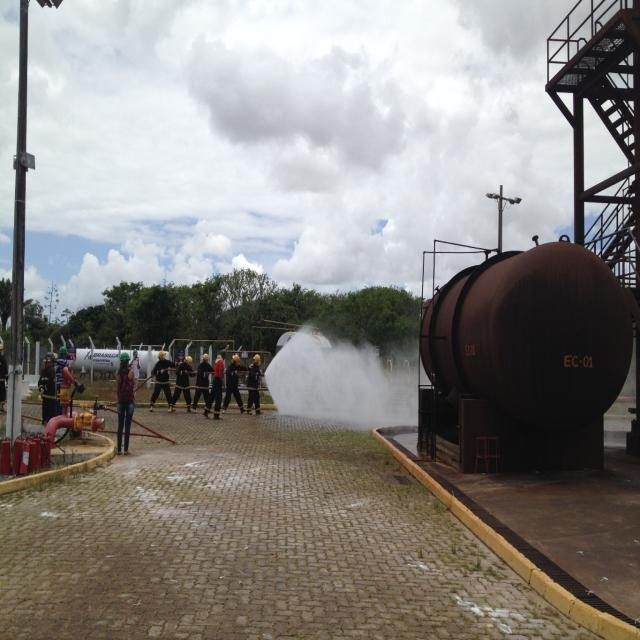no_fire: (5, 17, 621, 589)
